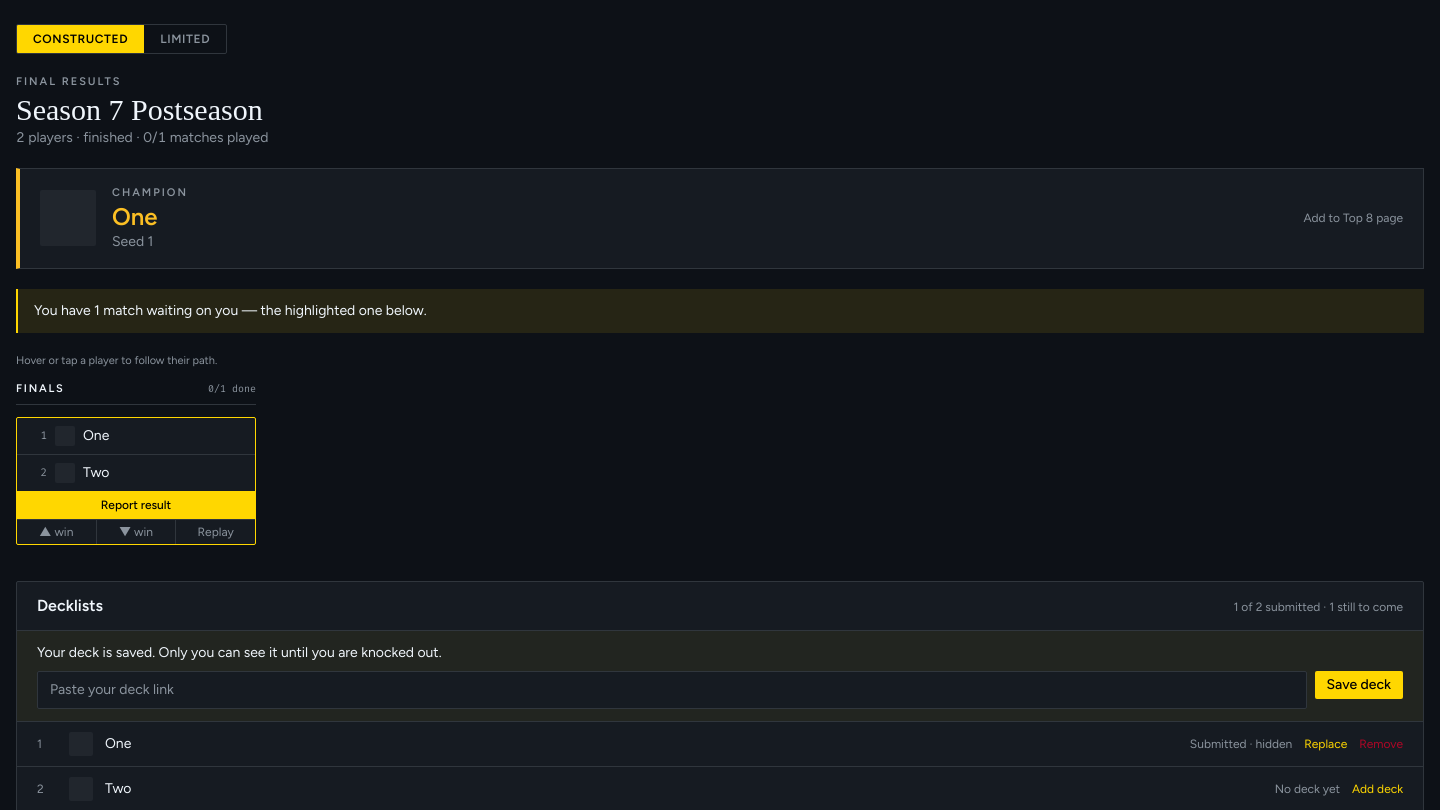
Test: Bracket page › lets an admin add a finished bracket to the Top 8 page
Click the button "Add to Top 8 page" at (1353, 218), box left=1304, top=210, right=1403, bottom=226
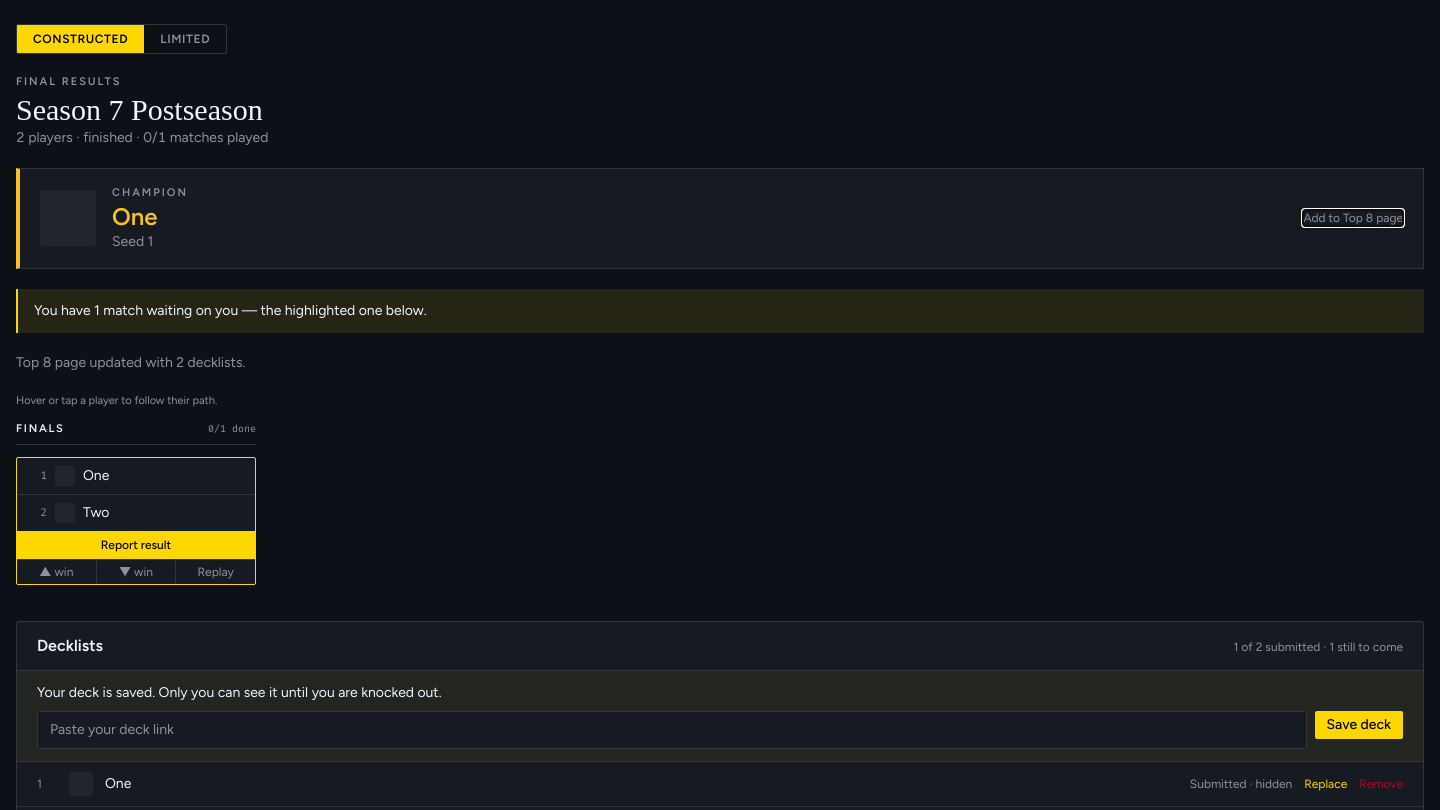
Check: the text "Top 8 page updated with 2 decklists." is shown, box left=16, top=354, right=245, bottom=370
